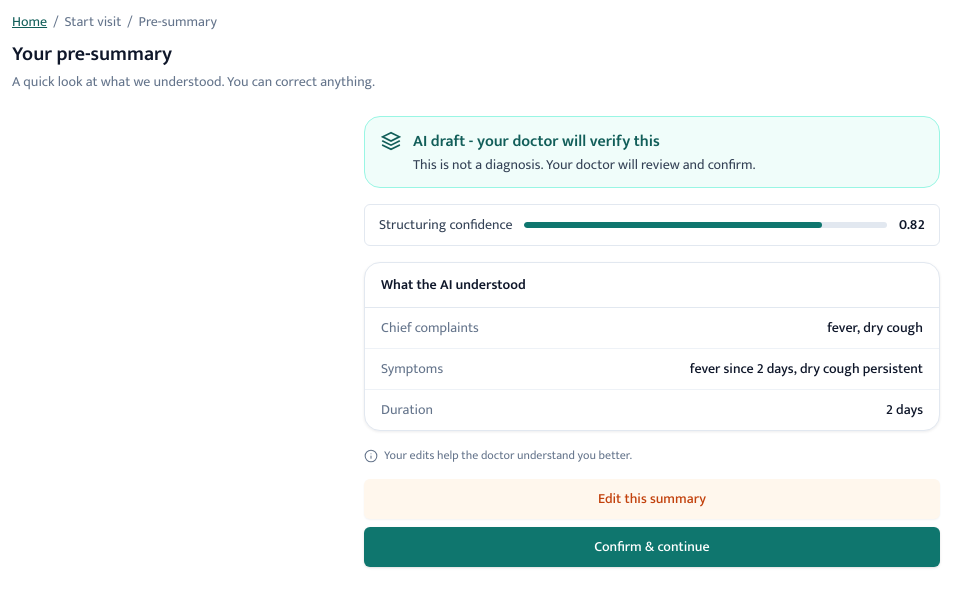
PreSummaryReviewPage clean variant (FEAT-007 happy path) › toggles to inputs, discards on cancel, and saves only-changed edits as corrections
Click the button with test id "btn-edit" at (652, 499), box [364,479,940,519]
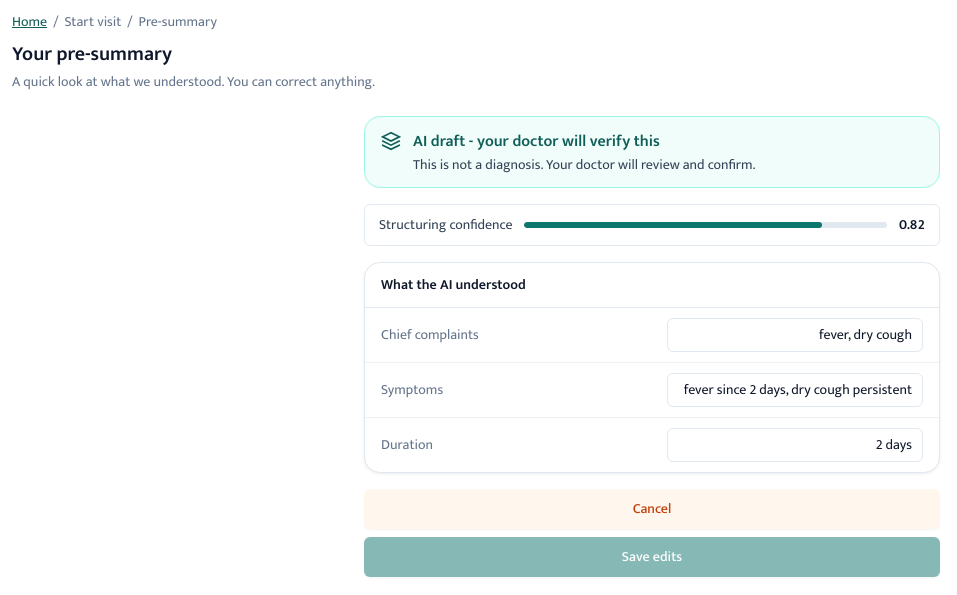
Expected: the field with test id "field-input-duration" is shown
Expected: the button with test id "btn-save" is disabled, [364,537,940,577]
Replace the text in the field with test id "field-input-duration" with "3 days" at (795, 445), box [667,428,923,462]
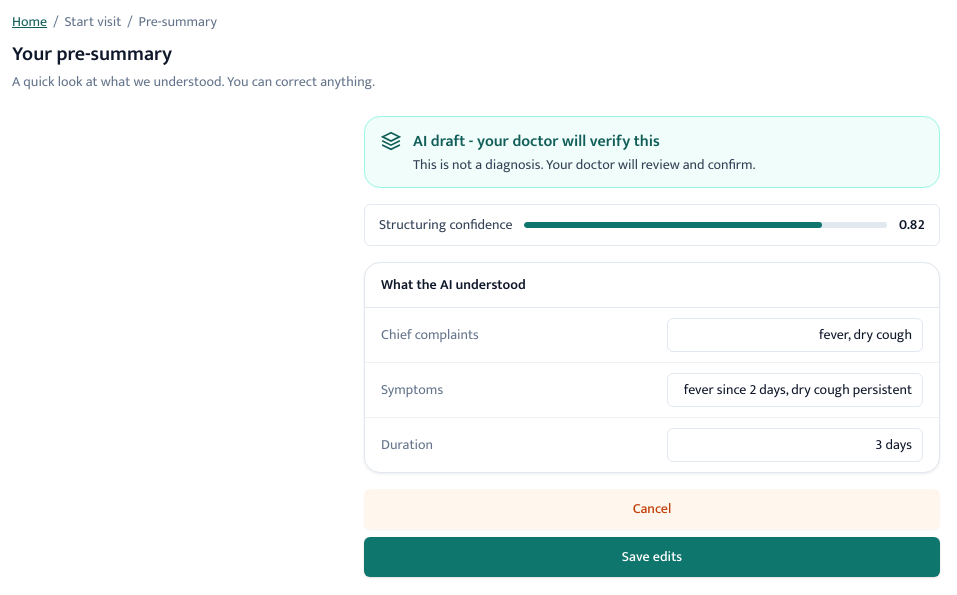
Expected: the button with test id "btn-save" is enabled, [364,537,940,577]
Cancel discards the draft.
Click the button with test id "btn-cancel" at (652, 509), box [364,489,940,529]
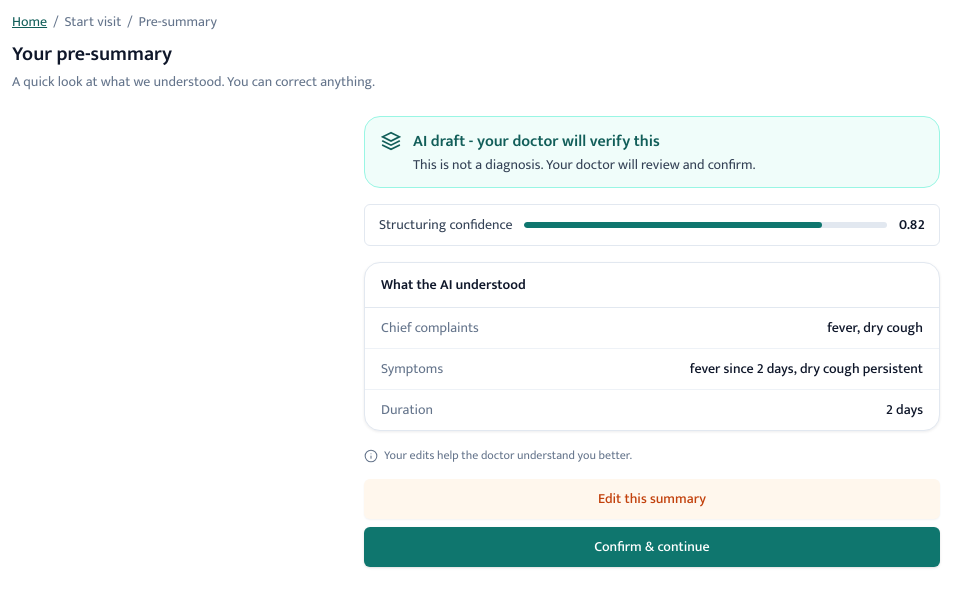
Expected: the field with test id "field-input-duration" is gone
Expected: the text with test id "field-value-duration" reads "2 days", [886,398,923,421]
Edit again, change one field, save: only the diff is posted.
Click the button with test id "btn-edit" at (652, 499), box [364,479,940,519]
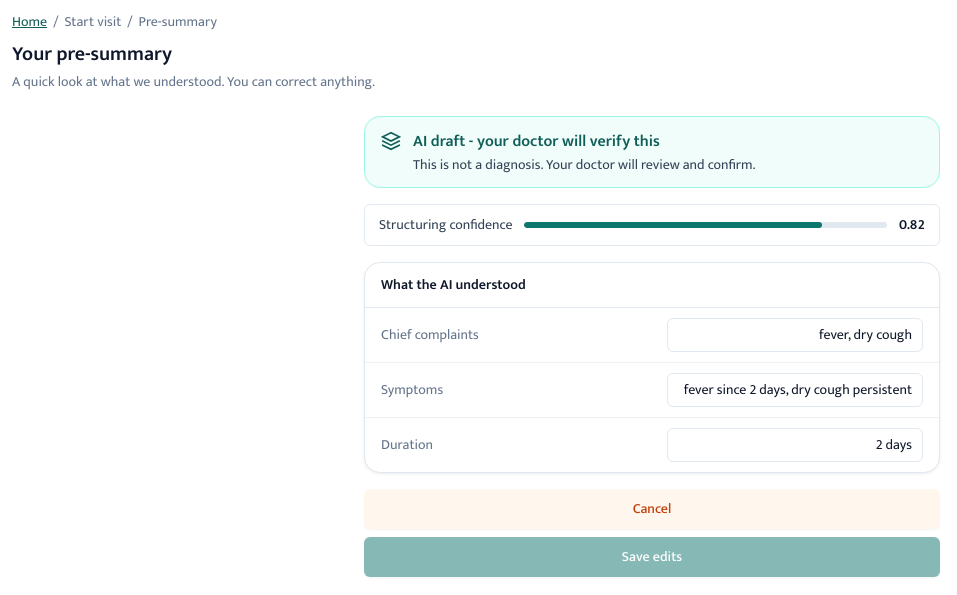
Replace the text in the field with test id "field-input-duration" with "3 days" at (795, 445), box [667,428,923,462]
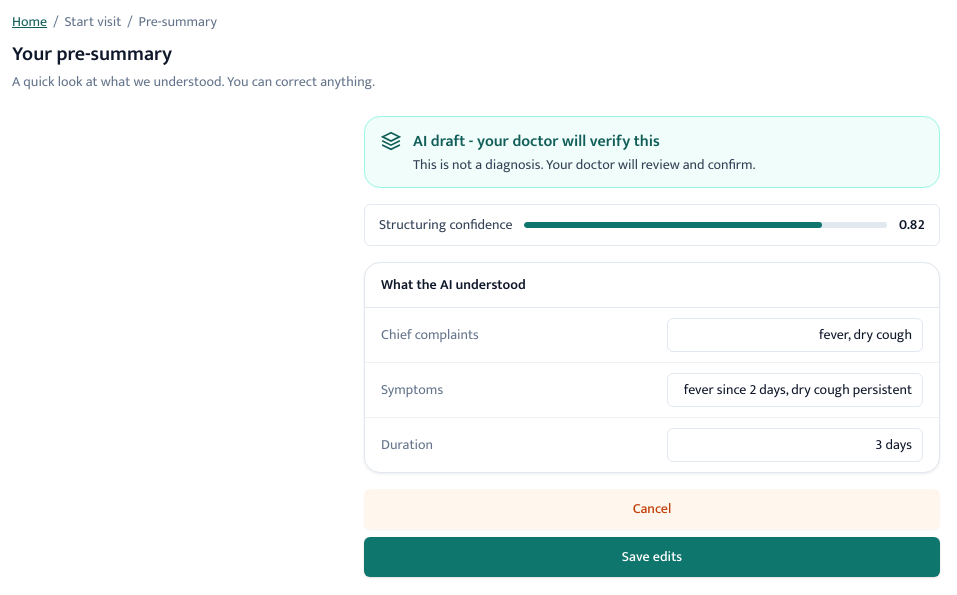
Click the button with test id "btn-save" at (652, 557), box [364,537,940,577]
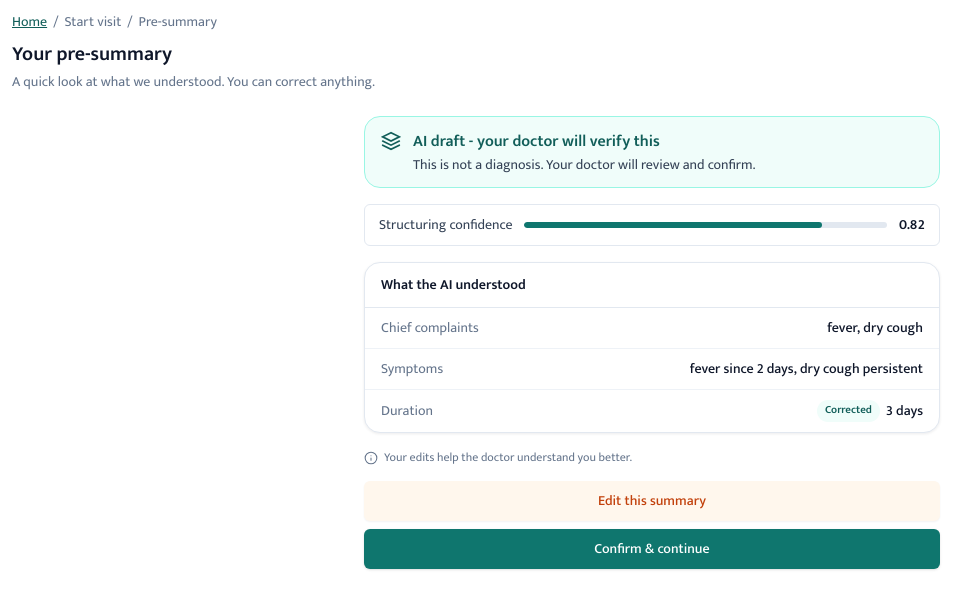
Expected: the text with test id "correction-tag-duration" reads "Corrected", [825,401,872,419]
Expected: the element with test id "field-value-duration" shows "3 days", [886,399,923,422]
